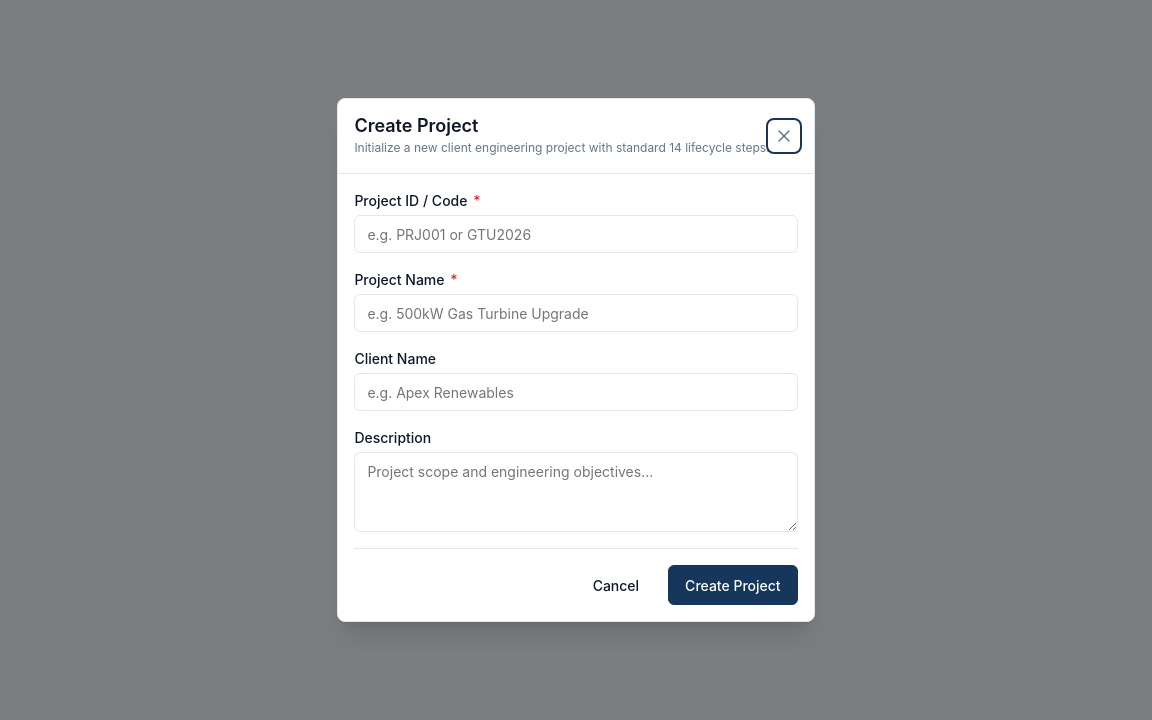
Test case: CreateProjectModal › clears validation error when user types into field
The width and height of the screenshot is (1152, 720).
Submit the form with test id "create-project-form", box [354,190,798,605]
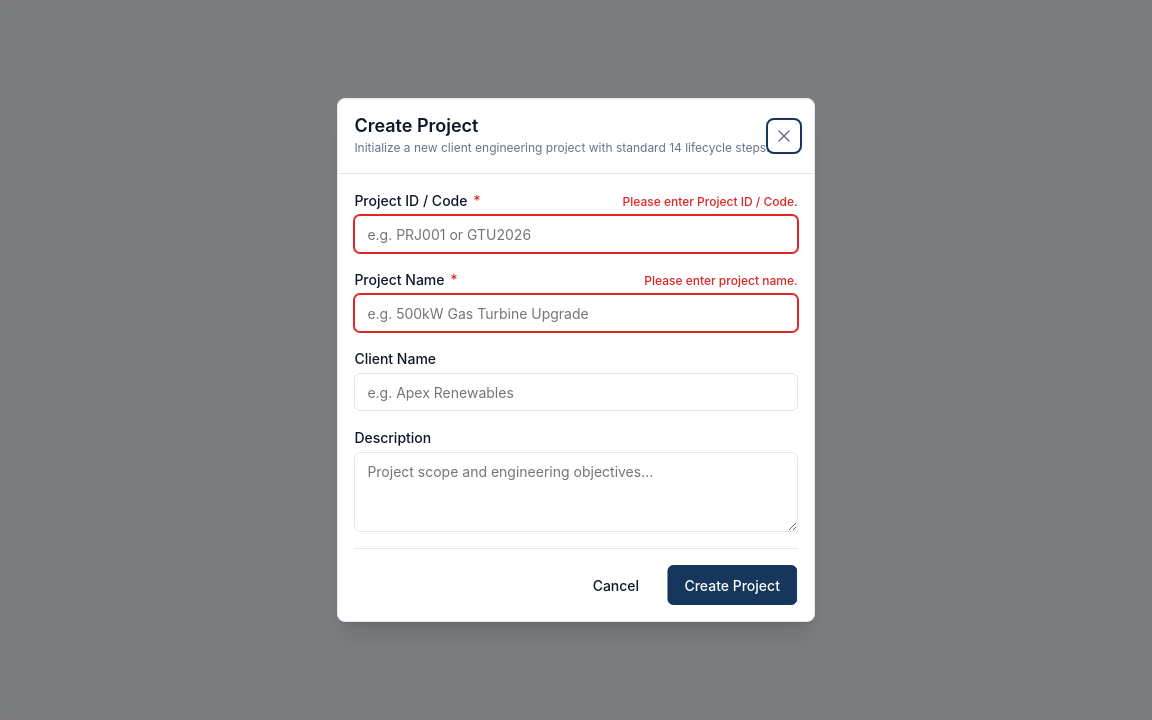
Result: the message "Please enter Project ID / Code." is shown at [622,193,798,211]
Type "PRJ01" into the field with test id "create-project-code-input" at (576, 234), box [354,215,798,253]
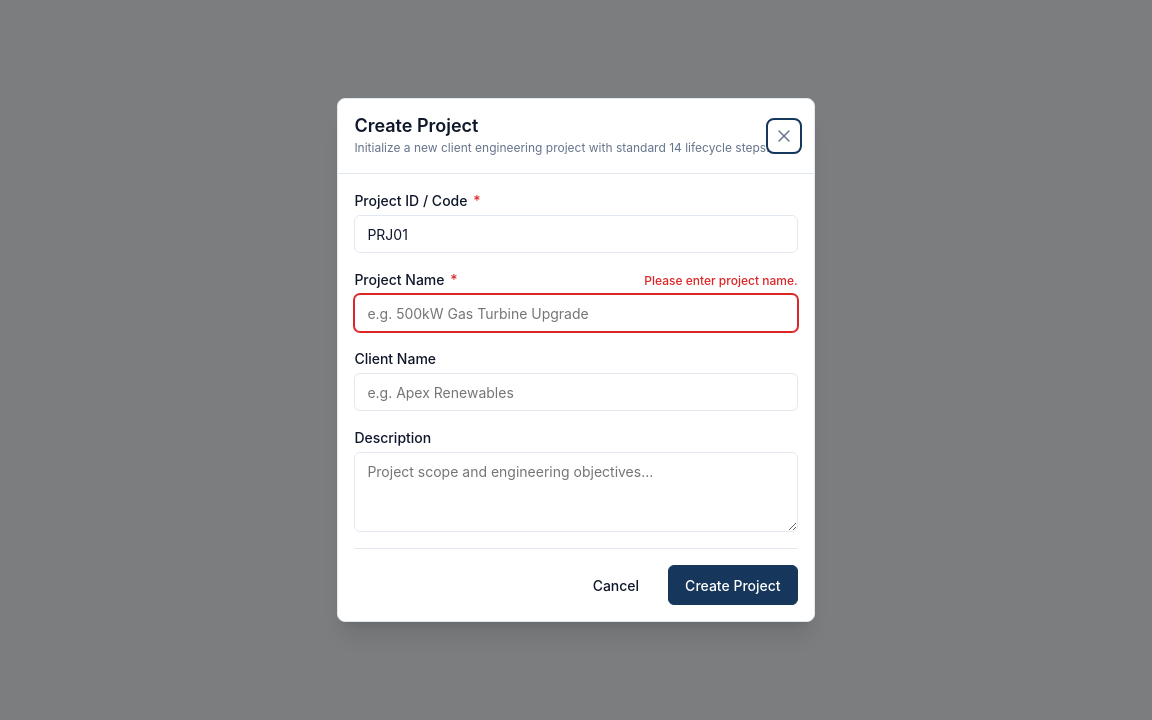
Result: the message with test id "error-code" is gone
